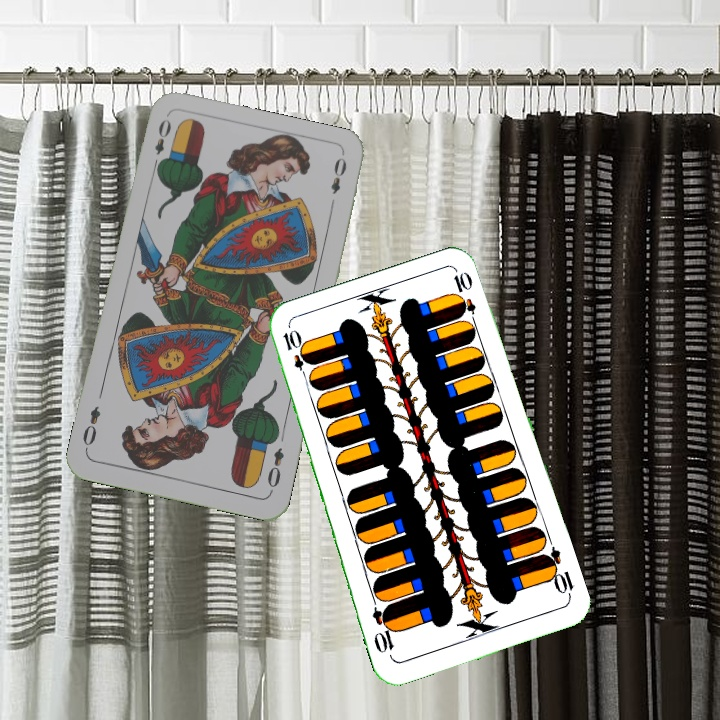E10: (538, 544, 577, 601), (279, 325, 312, 384)
EO: (149, 114, 174, 172), (263, 444, 287, 495)
